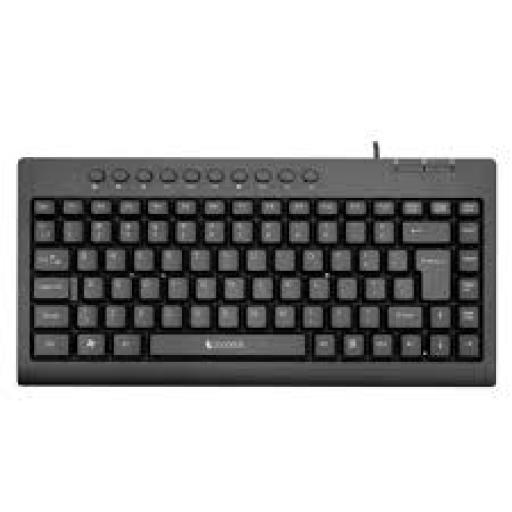KEYBOARD-2: (20, 159, 494, 382)
